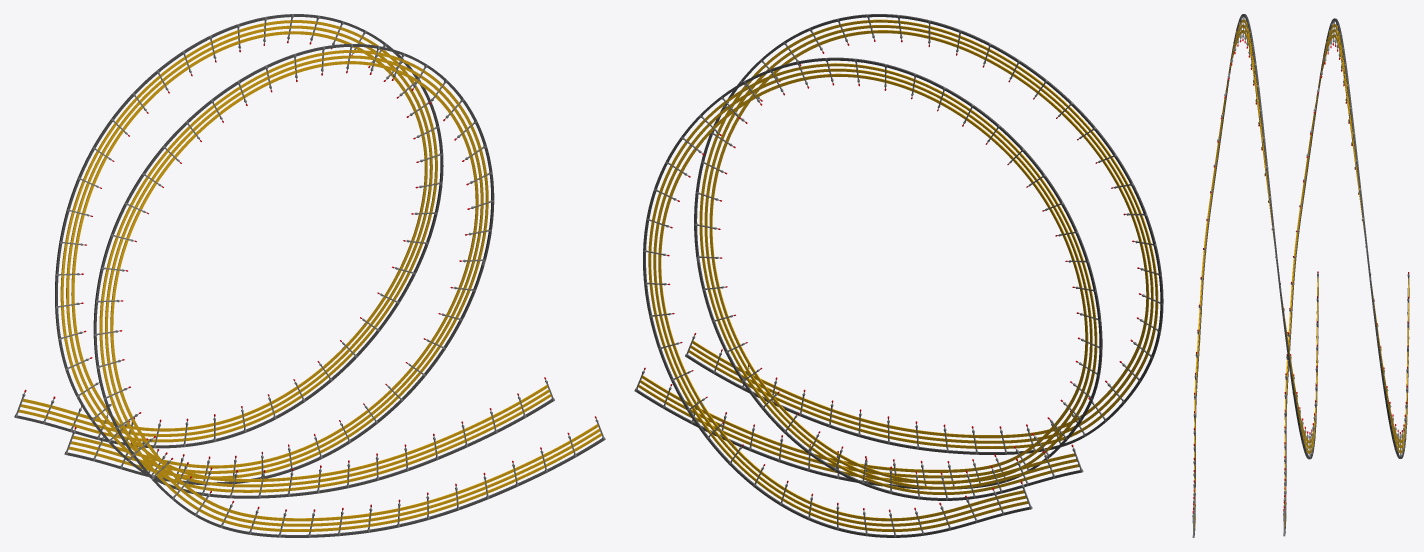
File: Bande3.fbx
The picture shows the model from 3 angles, left to right: view 1: azimuth 30°, elevation 25°; view 2: azimuth 150°, elevation 25°; view 3: azimuth 270°, elevation 25°; orthographic projection. The views are drawn at different scales.
Parts seen in each view (by area): view 1: Bande.Looping; view 2: Bande.Looping; view 3: Bande.Looping.
Part boxes in pixels (x1,y1,x2,y2): Bande.Looping: (14, 14, 605, 537); Bande.Looping: (634, 14, 1163, 537); Bande.Looping: (1192, 14, 1409, 537).
Size of the model in its own units: 22982 by 20713 by 9755.
